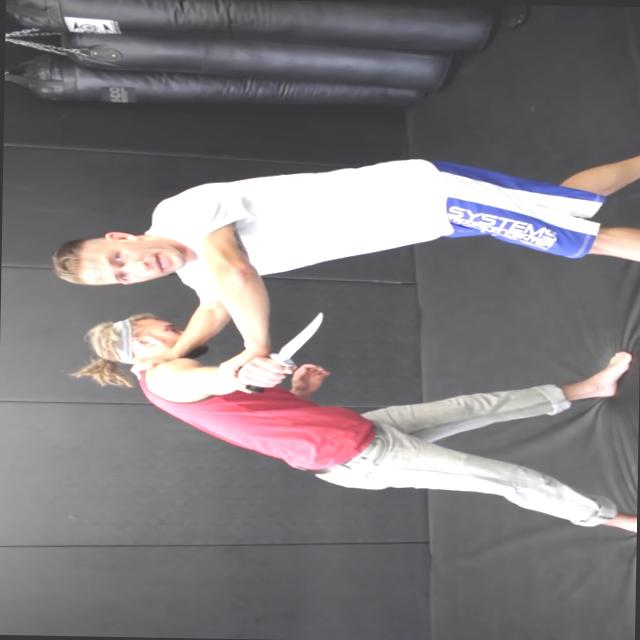knife: (230, 307, 330, 401)
